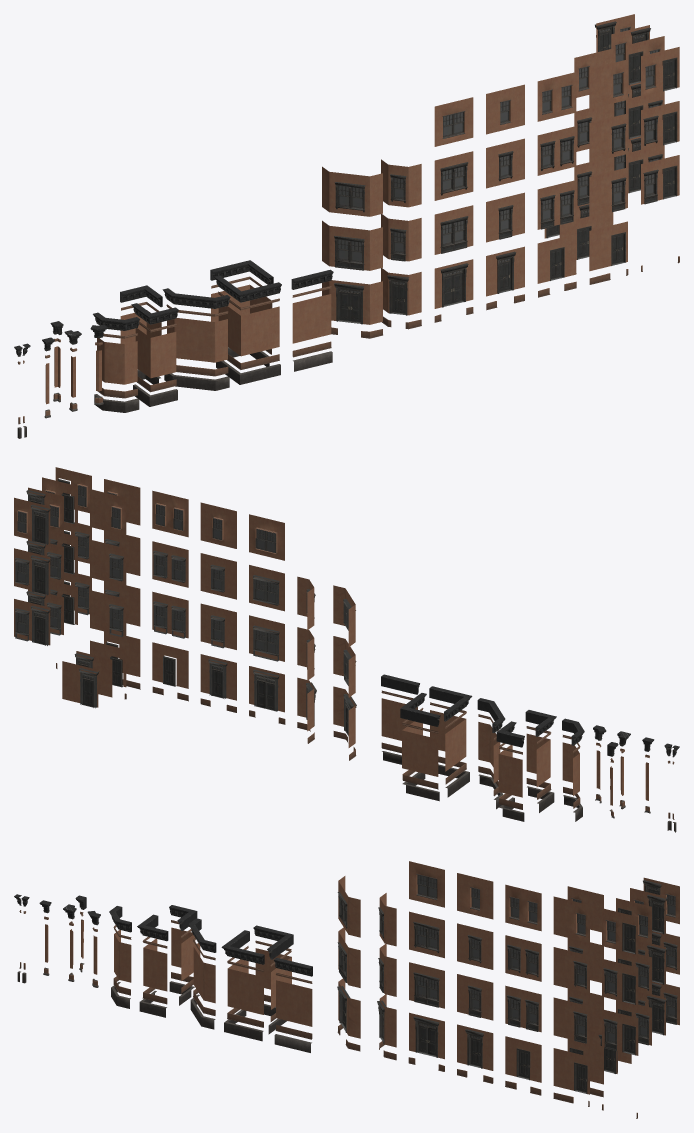
The model's file is modular_urban_apartments_facade.glb.
3 renders of one model, top to bottom at view 1: azimuth 30°, elevation 25°; view 2: azimuth 150°, elevation 25°; view 3: azimuth 330°, elevation 25°, orthographic. The views are drawn at different scales.
Parts seen in each view (by area): view 1: wall_standard_corner_large_01, wall_standard_angled_large_01, wall_window_angled_large_02, wall_standard_corner_small_01, wall_standard_standard_01, wall_window_angled_large_01, wall_standard_angled_small_01, wall_window_offset_small_05, wall_window_centered_small_03, wall_window_angled_small_02, wall_window_centered_small_02, wall_window_offset_small_03 (+39 smaller); view 2: wall_standard_corner_large_02, wall_standard_corner_large_01, wall_window_offset_small_06, wall_window_centered_small_03, wall_window_offset_small_04, wall_window_centered_small_02, wall_window_centered_small_01, wall_window_offset_small_02, wall_window_centered_double_03, wall_door_centered_small_02, door_window_small_04, wall_standard_corner_small_01 (+39 smaller); view 3: wall_standard_corner_large_01, wall_standard_standard_01, wall_window_offset_small_05, wall_window_centered_small_03, wall_window_centered_small_02, wall_window_offset_small_03, wall_window_centered_double_03, wall_window_centered_small_01, wall_window_offset_small_01, wall_door_centered_small_02, wall_door_offset_small_01, wall_standard_corner_small_01 (+58 smaller).
Part boxes in pixels (x1,y1,x2,y2): wall_standard_corner_large_01: (218,306,279,356); wall_standard_angled_large_01: (167,318,227,362); wall_window_angled_large_02: (322,166,382,216); wall_standard_corner_small_01: (135,328,176,378); wall_standard_standard_01: (292,294,331,343); wall_window_angled_large_01: (322,220,382,270); wall_standard_angled_small_01: (97,338,137,384); wall_window_offset_small_05: (589,59,627,109); wall_window_centered_small_03: (486,84,524,134); wall_window_angled_small_02: (381,159,421,207); wall_window_centered_small_02: (486,138,524,188); wall_window_offset_small_03: (589,113,627,163); wall_standard_corner_large_02: (402,721,438,776); wall_standard_corner_large_01: (430,710,466,771); wall_window_offset_small_06: (90,489,126,535); wall_window_centered_small_03: (200,502,236,548); wall_window_offset_small_04: (90,539,126,585); wall_window_centered_small_02: (200,553,236,599); wall_window_centered_small_01: (200,603,236,649); wall_window_offset_small_02: (90,590,126,636); wall_window_centered_double_03: (152,490,188,537); wall_door_centered_small_02: (152,642,188,688); door_window_small_04: (15,605,51,645); wall_standard_corner_small_01: (526,733,550,786); wall_standard_corner_large_01: (227,959,263,1014); wall_standard_standard_01: (276,980,312,1026); wall_window_offset_small_05: (553,896,589,942); wall_window_centered_small_03: (457,873,493,919); wall_window_centered_small_02: (457,923,493,969); wall_window_offset_small_03: (553,947,589,993); wall_window_centered_double_03: (505,884,541,931); wall_window_centered_small_01: (457,974,493,1020); wall_window_offset_small_01: (553,997,589,1043); wall_door_centered_small_02: (505,1036,541,1082); wall_door_offset_small_01: (553,1048,589,1094); wall_standard_corner_small_01: (143,938,167,991).
Size of the model in its own units: 51.53 by 17 by 6.67.
5 materials, 5 textured.
